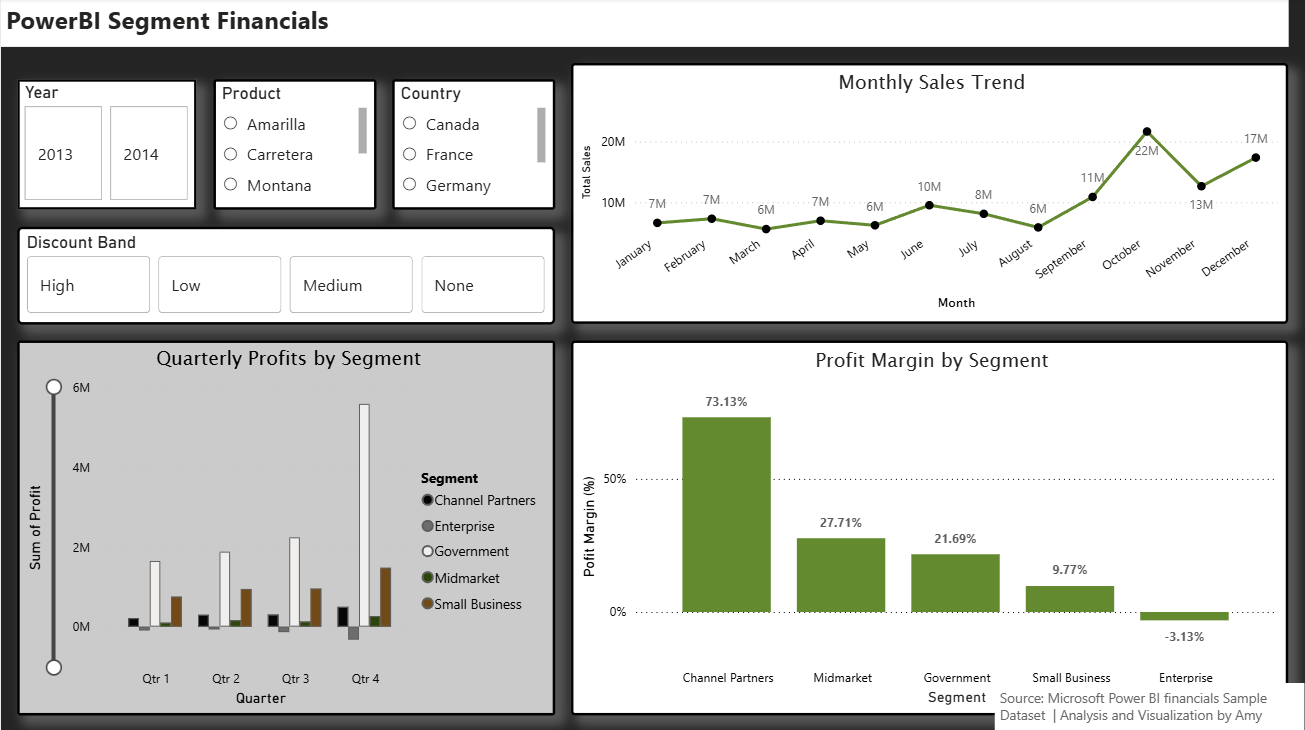

Layout of this report page (visuals, bound fields, positions):
{"tool":"powerbi","page":{"name":"Segment Performance","canvas":[1280,720],"ordinal":2},"visuals":[{"type":"textbox","box":[0,0,1264,48],"z":0},{"type":"lineChart","title":"Monthly Sales Trend","fields":{"Category":["financials.Date.Variation.Date Hierarchy.Month"],"Y":["financials.Total Sales"]},"box":[560,64,704,256],"z":1000},{"type":"advancedSlicerVisual","fields":{"Values":["financials.Date.Variation.Date Hierarchy.Year"]},"box":[16,80,176,128],"z":2000},{"type":"lineClusteredColumnComboChart","title":"Profit Margin by Segment","fields":{"Category":["financials.Segment"],"Y":["financials.Pofit Margin (%)"]},"box":[560,336,704,368],"z":3000},{"type":"listSlicer","fields":{"Values":["financials.Product"]},"box":[208,80,160,128],"z":4000},{"type":"listSlicer","fields":{"Values":["financials.Country"]},"box":[384,80,160,128],"z":5000},{"type":"advancedSlicerVisual","fields":{"Values":["financials.Discount Band"]},"box":[16,224,528,96],"z":6000},{"type":"lineClusteredColumnComboChart","title":"Quarterly Profits by Segment","fields":{"Category":["financials.Date.Variation.Date Hierarchy.Quarter"],"Series":["financials.Segment"],"Y":["Sum(financials.Profit)"]},"box":[16,336,528,368],"z":7000},{"type":"textbox","box":[976,672,304,48],"z":8000}]}

Visuals, with their boxes in screenshot pixels (x1, y1, x2, y2), scaled from the page's 1280x720 canvas onto the 1305x730 screenshot:
textbox: 0,0,1289,49
"Monthly Sales Trend" lineChart: 571,65,1289,324
advancedSlicerVisual - financials.Date.Variation.Date Hierarchy.Year: 16,81,196,211
"Profit Margin by Segment" lineClusteredColumnComboChart: 571,341,1289,714
listSlicer - financials.Product: 212,81,375,211
listSlicer - financials.Country: 392,81,555,211
advancedSlicerVisual - financials.Discount Band: 16,227,555,324
"Quarterly Profits by Segment" lineClusteredColumnComboChart: 16,341,555,714
textbox: 995,681,1304,729
